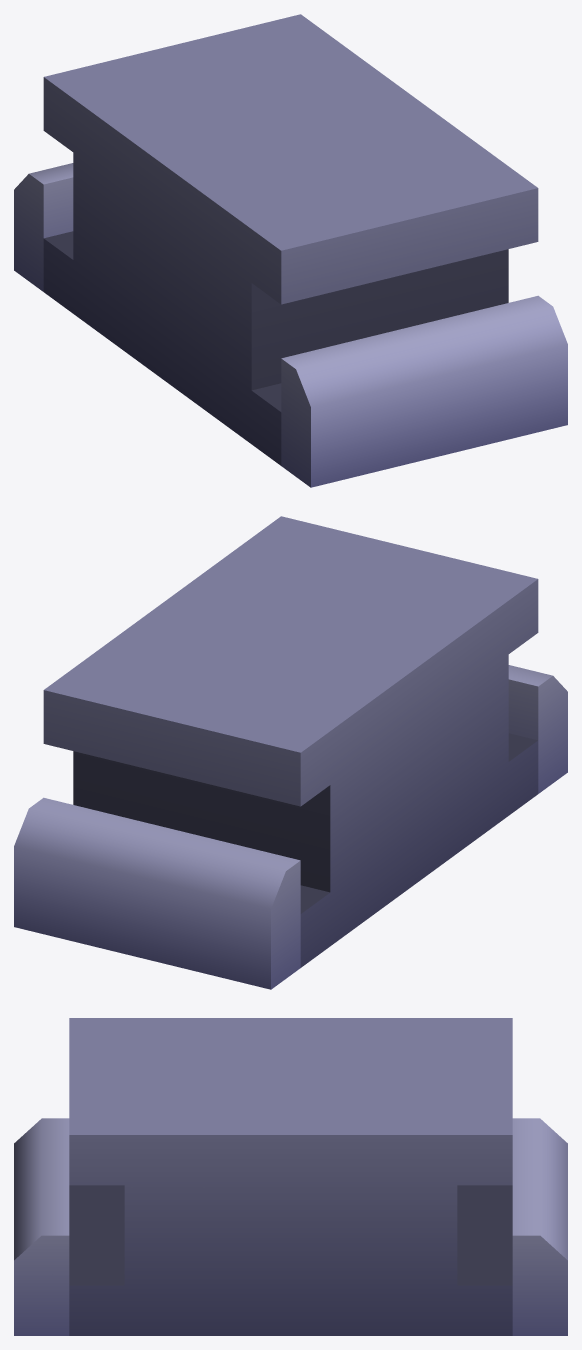
The model's file is conveyor-long-sides-part-middle.glb.
3 views of the same model, one above another, from view 1: azimuth 30°, elevation 25°; view 2: azimuth 150°, elevation 25°; view 3: azimuth 270°, elevation 25° (orthographic). The views are drawn at different scales.
Visible parts, largest first — view 1: conveyor-long-sides-part-middle; view 2: conveyor-long-sides-part-middle; view 3: conveyor-long-sides-part-middle.
Part boxes in pixels (bbox=[...]): conveyor-long-sides-part-middle: bbox=[14, 14, 567, 487]; conveyor-long-sides-part-middle: bbox=[14, 516, 567, 989]; conveyor-long-sides-part-middle: bbox=[14, 1018, 567, 1335].
Size of the model in its own units: 0.5 by 0.4 by 1.
Materials: 1 (1 with a texture image).
